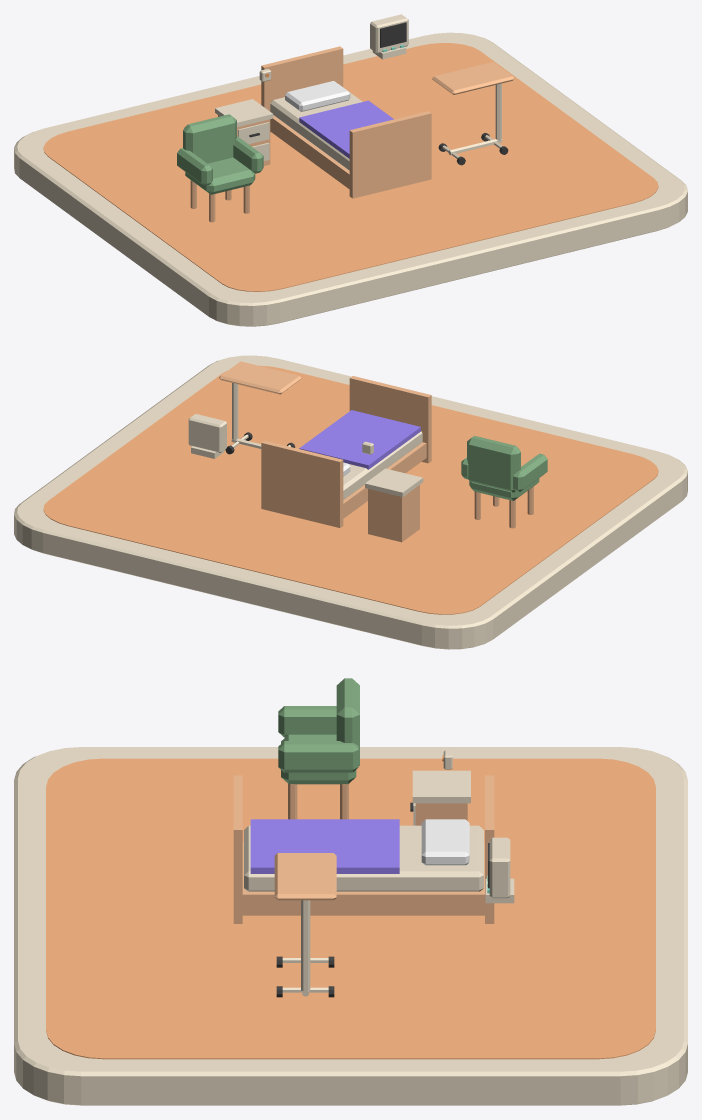
3 views of the same model, one above another, from view 1: azimuth 30°, elevation 25°; view 2: azimuth 150°, elevation 25°; view 3: azimuth 270°, elevation 25° (orthographic). The views are drawn at different scales.
Parts seen in each view (by area): view 1: COM-02 Floor Surface, COM-01 Rounded Base Direct, End board, End board.001, Blanket, Back, Mattress, Table top, Frame, Cushion, Pillow, Top (+5 smaller); view 2: COM-02 Floor Surface, COM-01 Rounded Base Direct, End board.001, Blanket, End board, Body, Back, Table top, Housing, Mattress, Frame, Top (+2 smaller); view 3: COM-02 Floor Surface, COM-01 Rounded Base Direct, Blanket, Mattress, Frame, Table top, Arm.001, Pillow, Top, Arm, Back, End board (+5 smaller).
Boxes of the visible parts, <box> form: COM-02 Floor Surface: <box>43,43,658,291</box>; COM-01 Rounded Base Direct: <box>14,32,687,326</box>; End board: <box>349,111,431,198</box>; End board.001: <box>261,46,343,132</box>; Blanket: <box>299,100,393,158</box>; Back: <box>183,114,236,163</box>; Mattress: <box>270,85,362,170</box>; Table top: <box>432,62,514,94</box>; Frame: <box>270,115,349,189</box>; Cushion: <box>185,157,255,194</box>; Pillow: <box>285,81,350,111</box>; Top: <box>215,99,273,127</box>; COM-02 Floor Surface: <box>43,365,658,614</box>; COM-01 Rounded Base Direct: <box>14,355,687,649</box>; End board.001: <box>261,440,343,527</box>; Blanket: <box>299,410,420,469</box>; End board: <box>349,376,431,463</box>; Body: <box>368,485,419,542</box>; Back: <box>467,435,520,492</box>; Table top: <box>219,361,301,394</box>; Housing: <box>188,414,226,452</box>; Mattress: <box>343,431,422,499</box>; Frame: <box>343,442,426,518</box>; Top: <box>365,468,423,497</box>; COM-02 Floor Surface: <box>46,758,655,1059</box>; COM-01 Rounded Base Direct: <box>14,747,687,1105</box>; Blanket: <box>250,819,399,873</box>; Mattress: <box>244,825,483,891</box>; Frame: <box>242,842,484,915</box>; Table top: <box>274,853,336,900</box>; Arm.001: <box>278,741,358,772</box>; Pillow: <box>421,819,469,865</box>; Top: <box>412,770,470,803</box>; Arm: <box>278,706,336,737</box>; Back: <box>336,678,359,765</box>; End board: <box>233,775,242,923</box>.
Bounding box in the file's own units: 6 × 1.35 × 5.2.
Materials: 1 (1 with a texture image).
